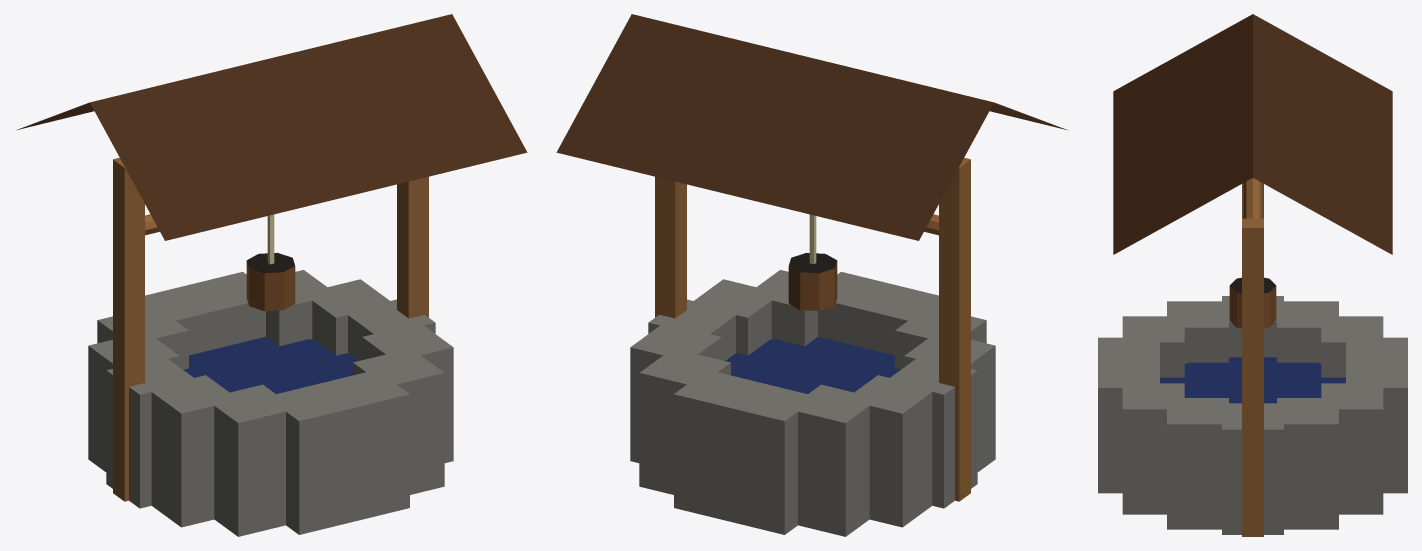
Rendered from camp_well.glb.
The picture shows the model from 3 angles, left to right: view 1: azimuth 30°, elevation 25°; view 2: azimuth 150°, elevation 25°; view 3: azimuth 270°, elevation 25°; orthographic projection. The views are drawn at different scales.
Visible parts, largest first — view 1: camp_well; view 2: camp_well; view 3: camp_well.
Part boxes in pixels (box(x1,y1,x2,y2)): camp_well: box(16, 14, 527, 536); camp_well: box(556, 14, 1067, 536); camp_well: box(1098, 14, 1407, 536).
Size of the model in its own units: 2.5 by 2.65 by 2.
1 material, 1 textured.
